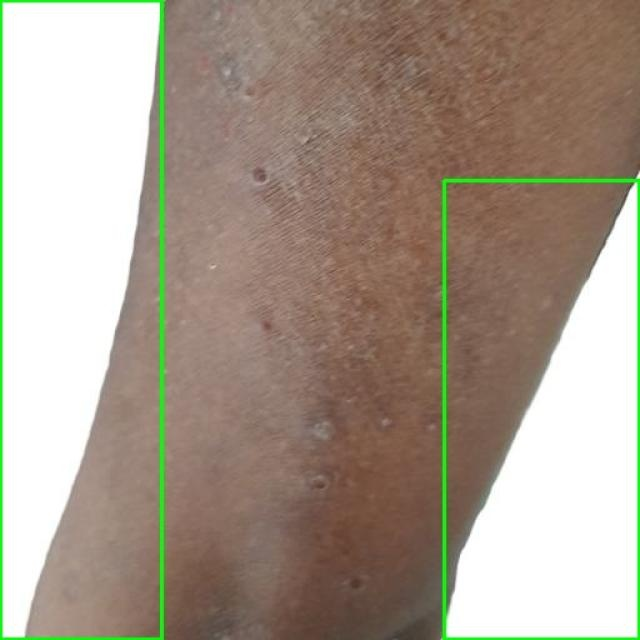Contact Dermatitis: (0, 0, 161, 639), (444, 180, 639, 639)
